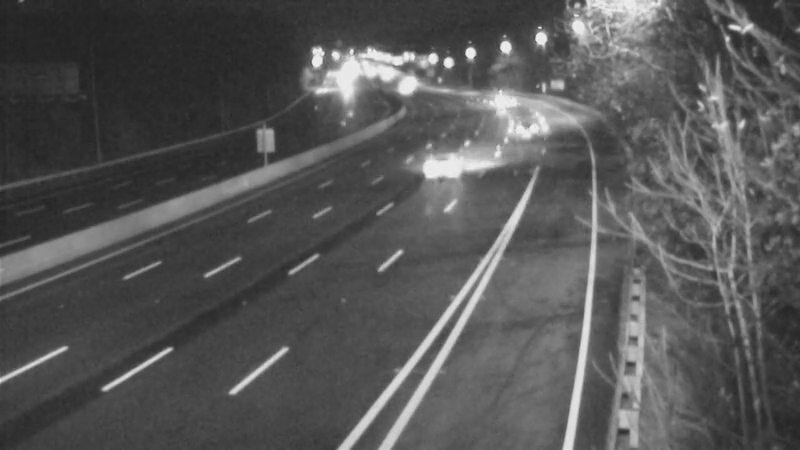vehicle: (409, 124, 489, 204), (484, 75, 534, 125), (493, 107, 543, 157)
